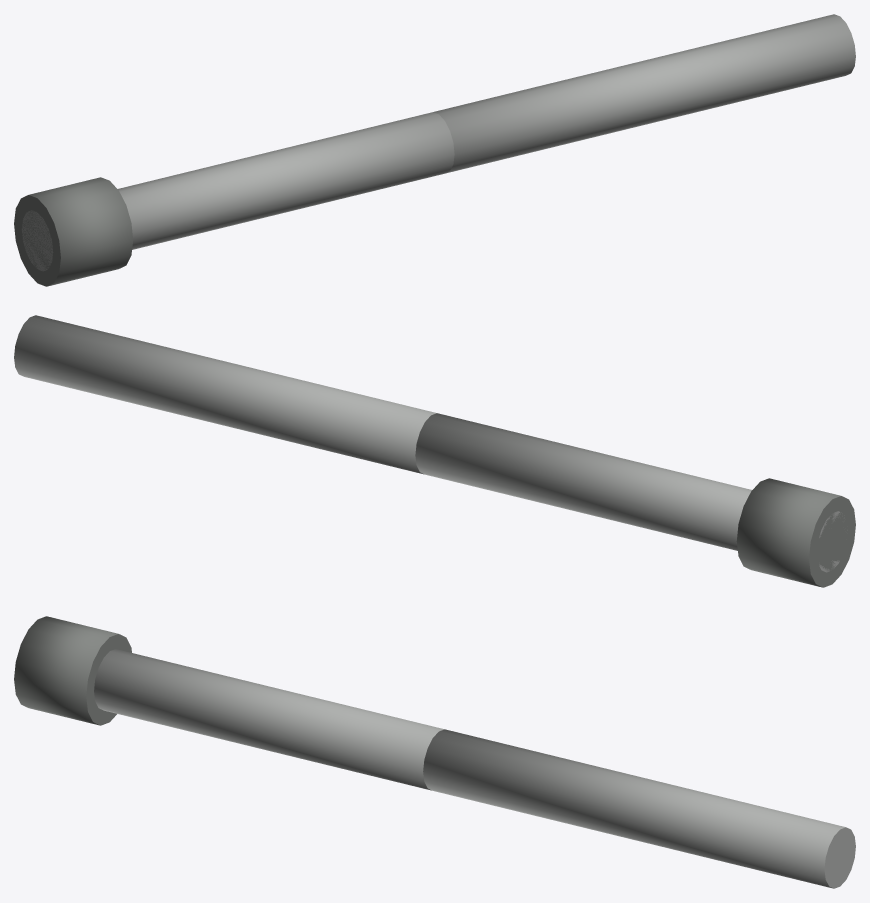
File: pipe_m10_x8.obj
3 views of the same model, one above another, from view 1: azimuth 30°, elevation 25°; view 2: azimuth 150°, elevation 25°; view 3: azimuth 330°, elevation 25° (orthographic).
Parts seen in each view (by area): view 1: pipe2, pipe8, sleeve8; view 2: pipe2, pipe8, sleeve8; view 3: pipe2, pipe8, sleeve8.
Part boxes in pixels (x1,y1,x2,y2): pipe2: [433, 14, 855, 173]; pipe8: [21, 112, 454, 271]; sleeve8: [14, 177, 133, 286]; pipe2: [14, 315, 436, 474]; pipe8: [415, 413, 847, 572]; sleeve8: [736, 478, 855, 587]; pipe2: [423, 729, 855, 888]; pipe8: [94, 649, 444, 790]; sleeve8: [14, 616, 131, 725].
Size of the model in its own units: 1 by 0.1014 by 0.1014.
Materials: 2 (2 with a texture image).
